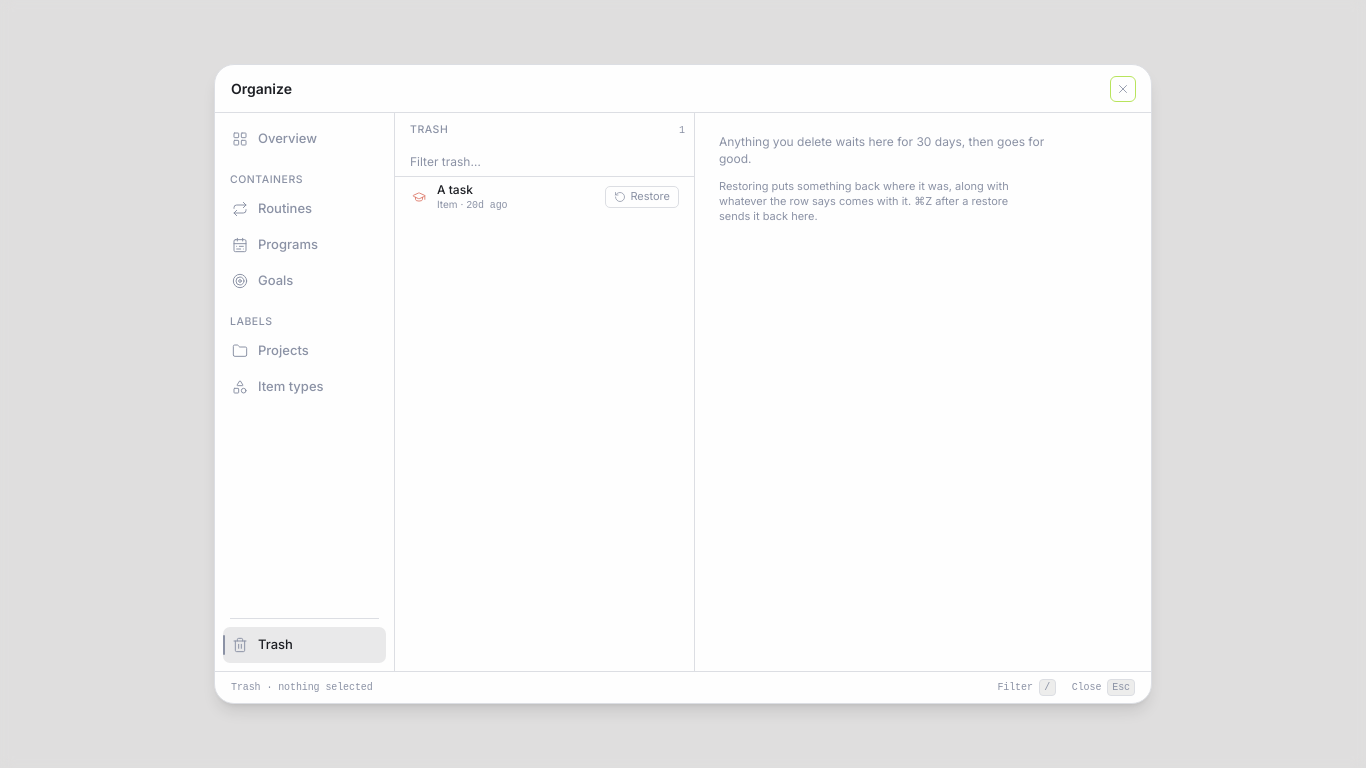
Test: the Trash preview › restoring the selected row clears the preview and drops the row
Click the button with test id "trash-select" at (503, 196), box [410,181,596,212]
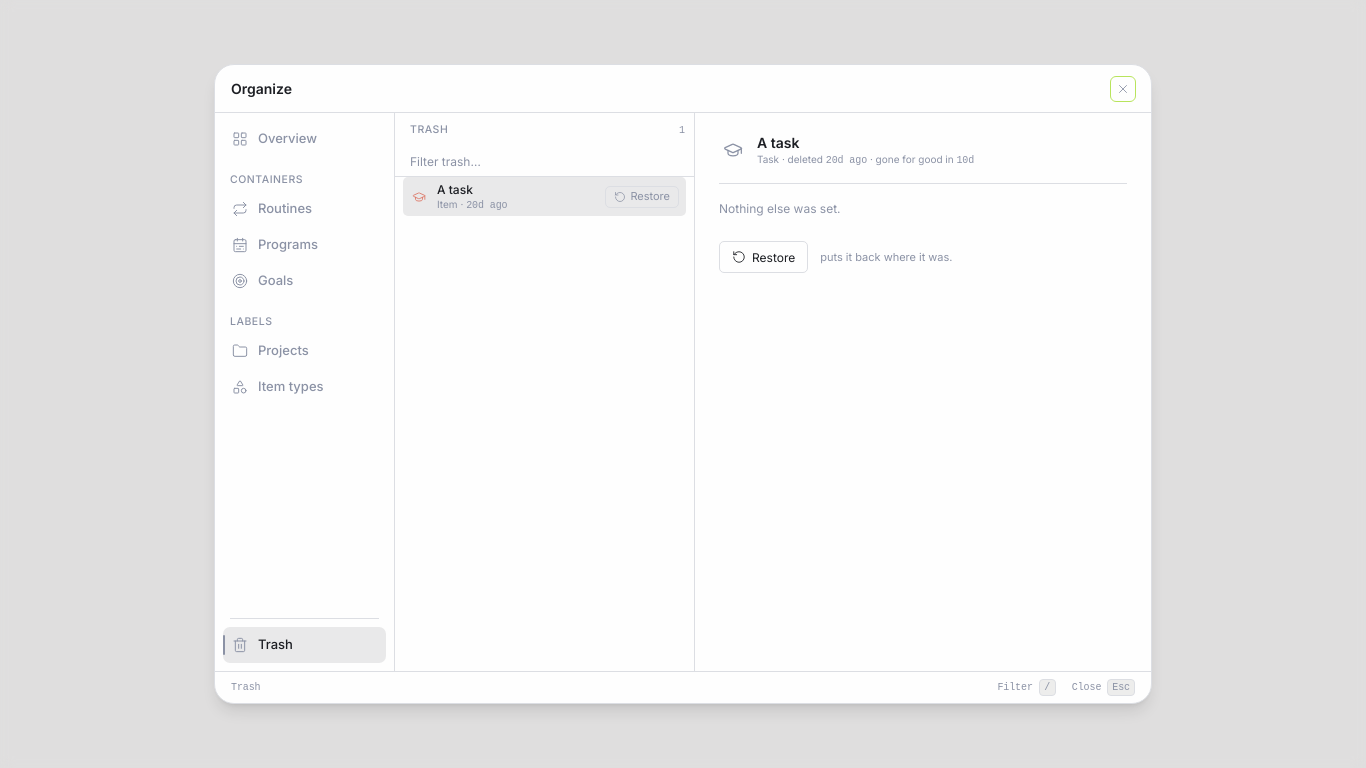
Check: the element with test id "trash-preview" is shown, box [719,134,974,273]
# Restore from WITHIN the preview — the second copy of the verb.
Click the button with test id "trash-preview-restore" at (764, 257), box [719,241,808,273]
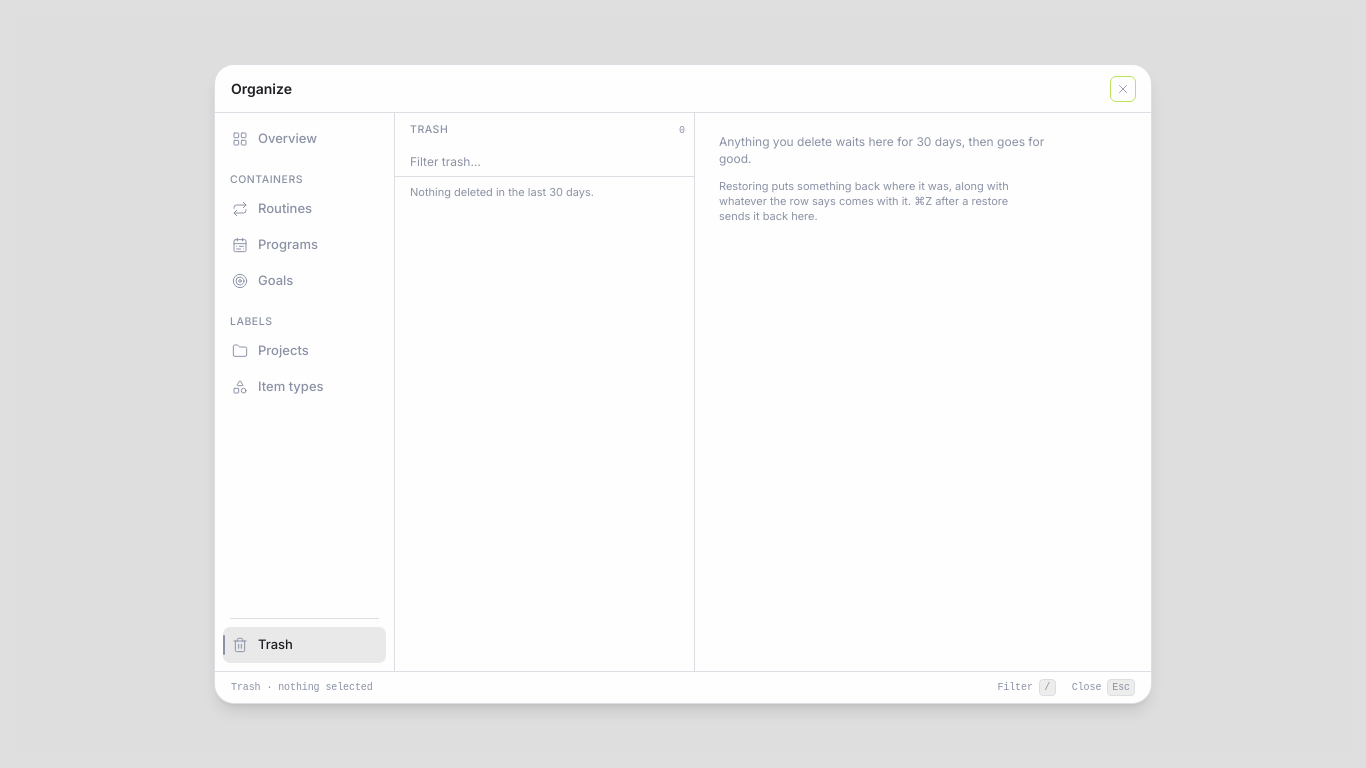
Check: the element with test id "trash-preview" is gone
Check: the element with test id "trash-row" is gone
